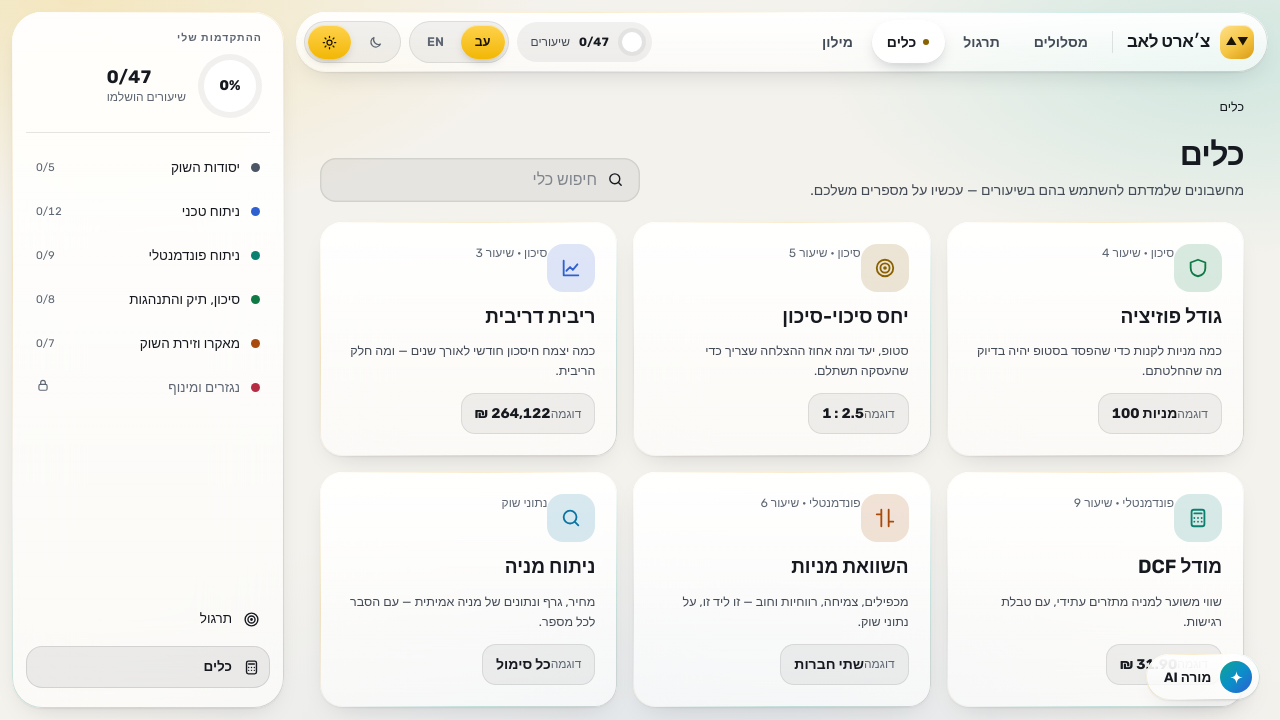
tools hub › search narrows the tools, and says so when nothing matches
Step 1. Type "DCF" into the search field labelled "חיפוש כלי" → [466, 180], box [336,168,597,192]
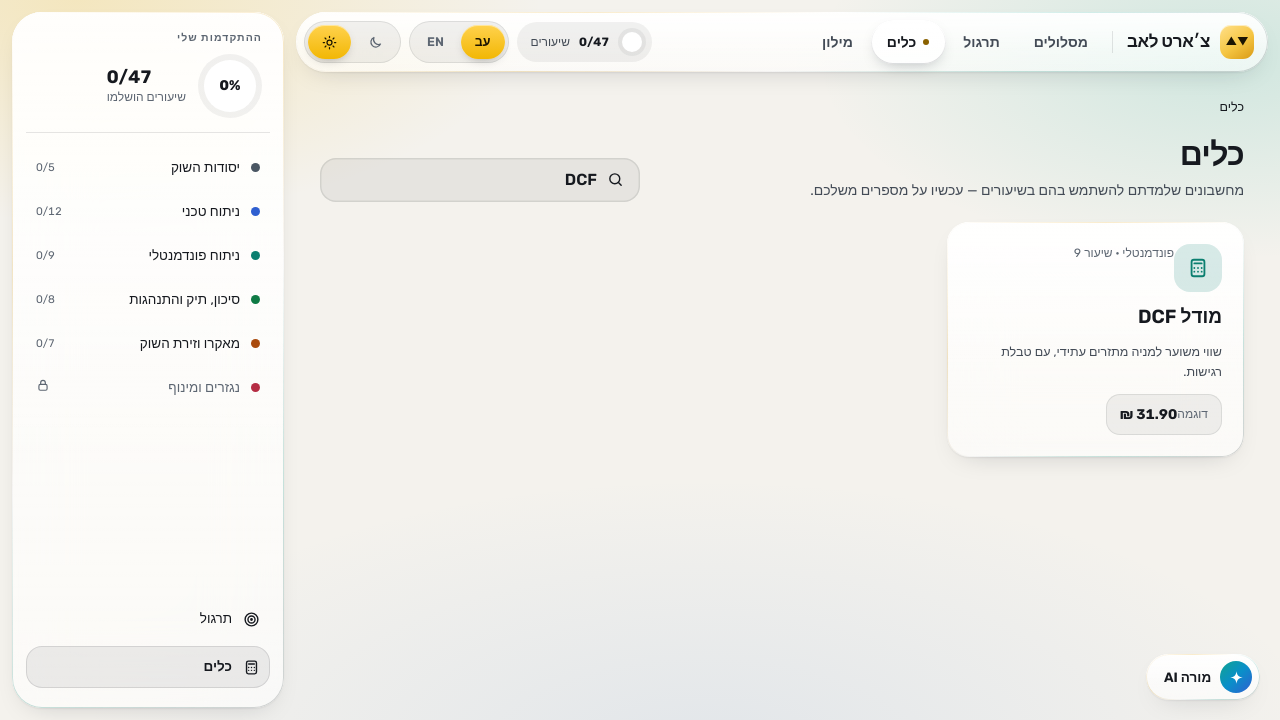
Now the number of buttons "מודל DCF" is 1, box [947,222,1244,456]
Now the button "ריבית דריבית" is gone
Step 2. Replace the text in the search field named "חיפוש כלי" with "zzz" → [466, 180], box [336,168,597,192]
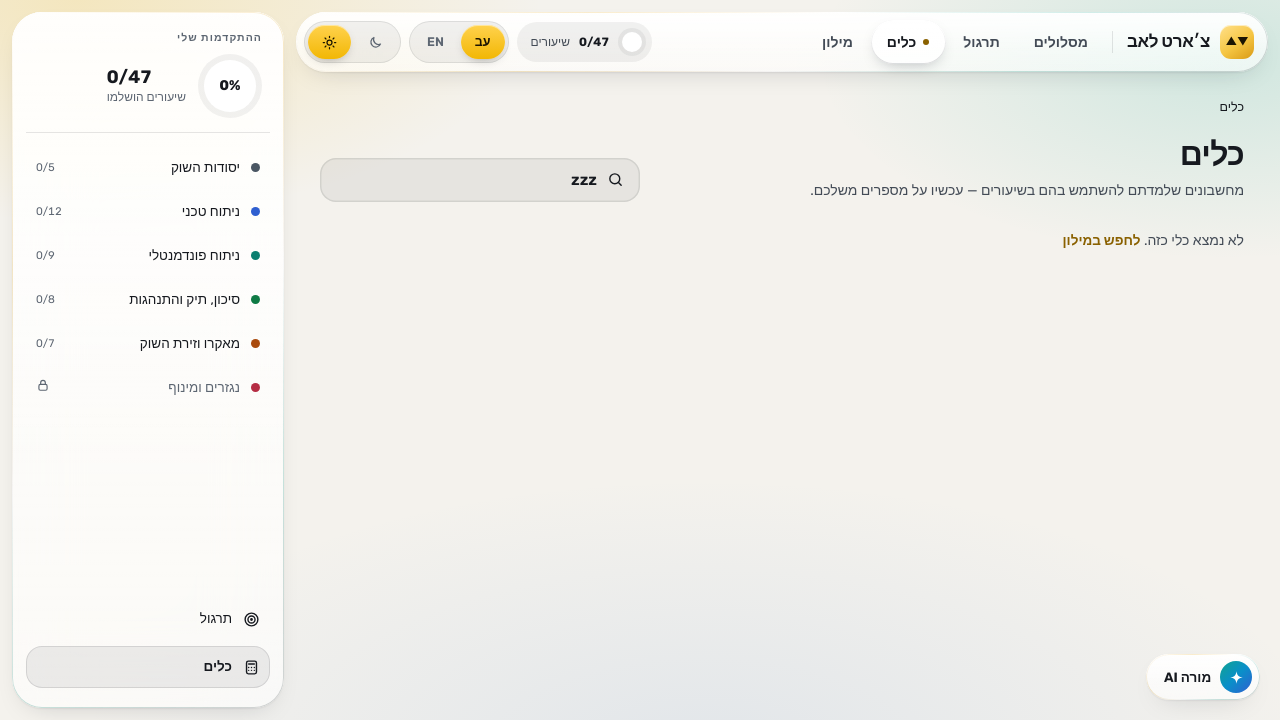
Now the text "לא נמצא כלי כזה." is shown, box [1144,232,1244,248]
